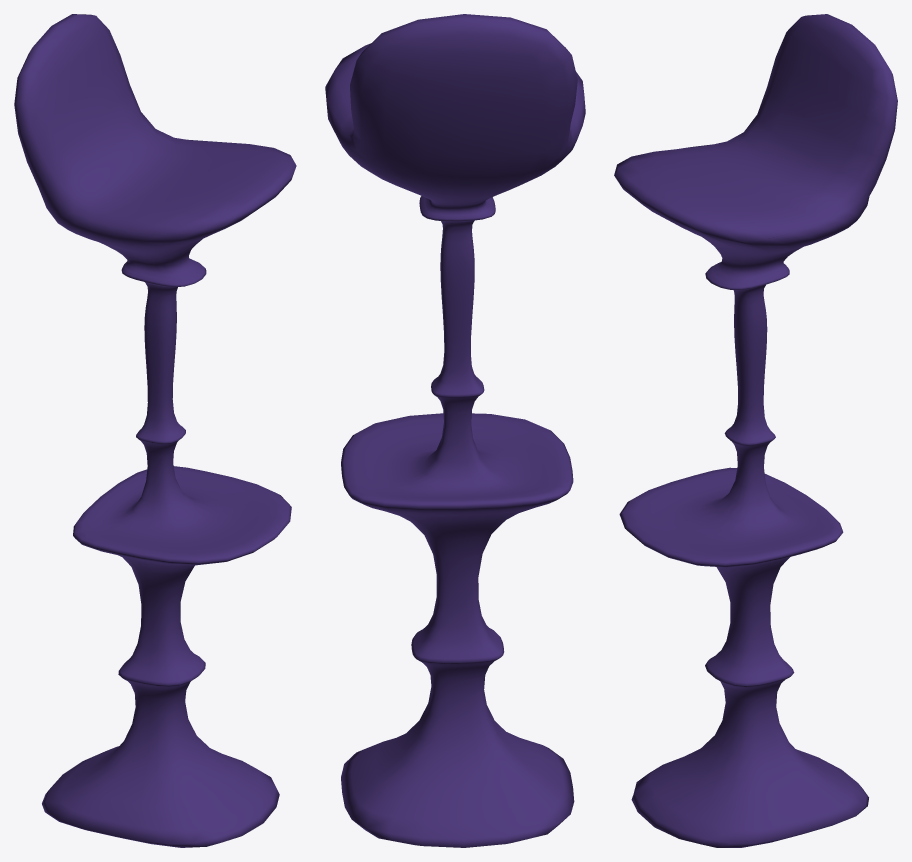
File: krzeslo.fbx
3 renders of one model, left to right at view 1: azimuth 30°, elevation 25°; view 2: azimuth 150°, elevation 25°; view 3: azimuth 270°, elevation 25°, orthographic. The views are drawn at different scales.
Visible parts, largest first — view 1: krzeslo_Baked; view 2: krzeslo_Baked; view 3: krzeslo_Baked.
Boxes of the visible parts, <box> form: krzeslo_Baked: <box>14,14,296,847</box>; krzeslo_Baked: <box>325,14,585,847</box>; krzeslo_Baked: <box>614,14,897,847</box>.
Size of the model in its own units: 112 by 337 by 115.
Materials: 1 (1 with a texture image).
